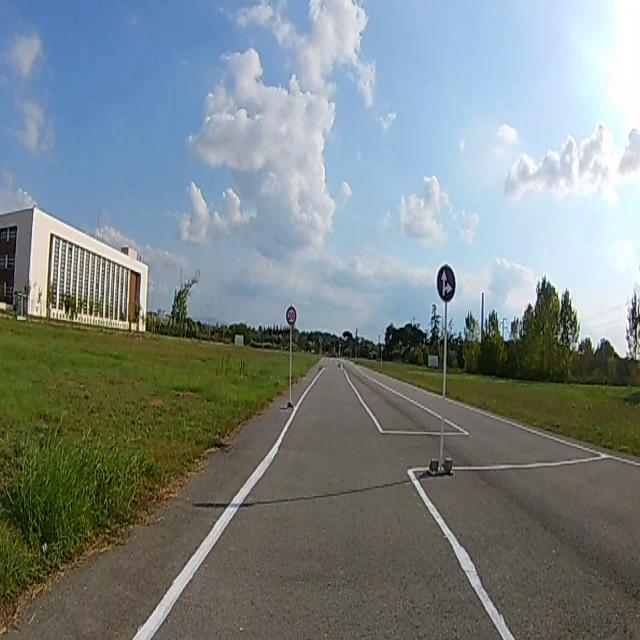20: (286, 306, 296, 324)
ilerisag: (438, 263, 457, 301)
